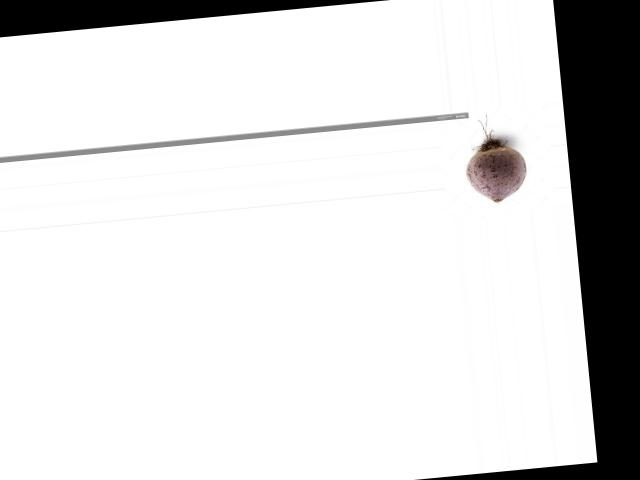beet: (460, 110, 529, 205)
